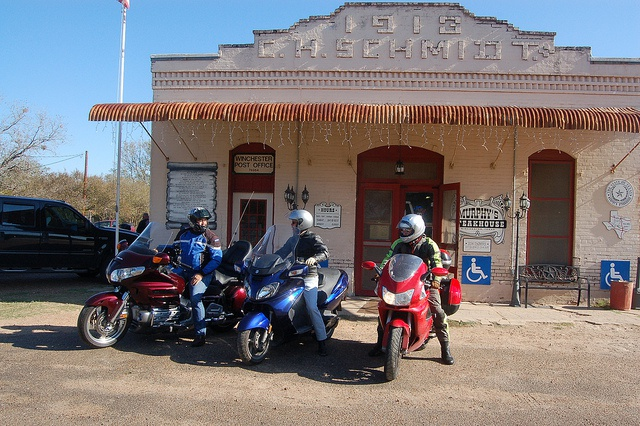non-vehicle: (76, 221, 252, 348), (235, 224, 348, 368), (360, 252, 461, 381)
